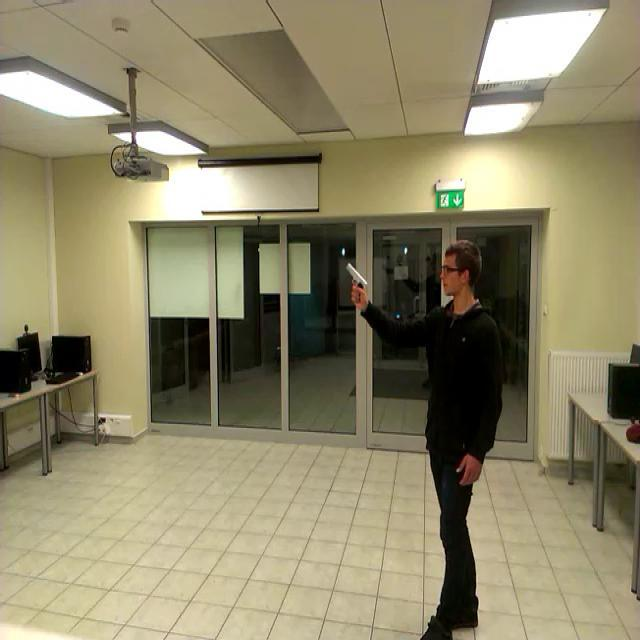Gun: (344, 261, 366, 302)
